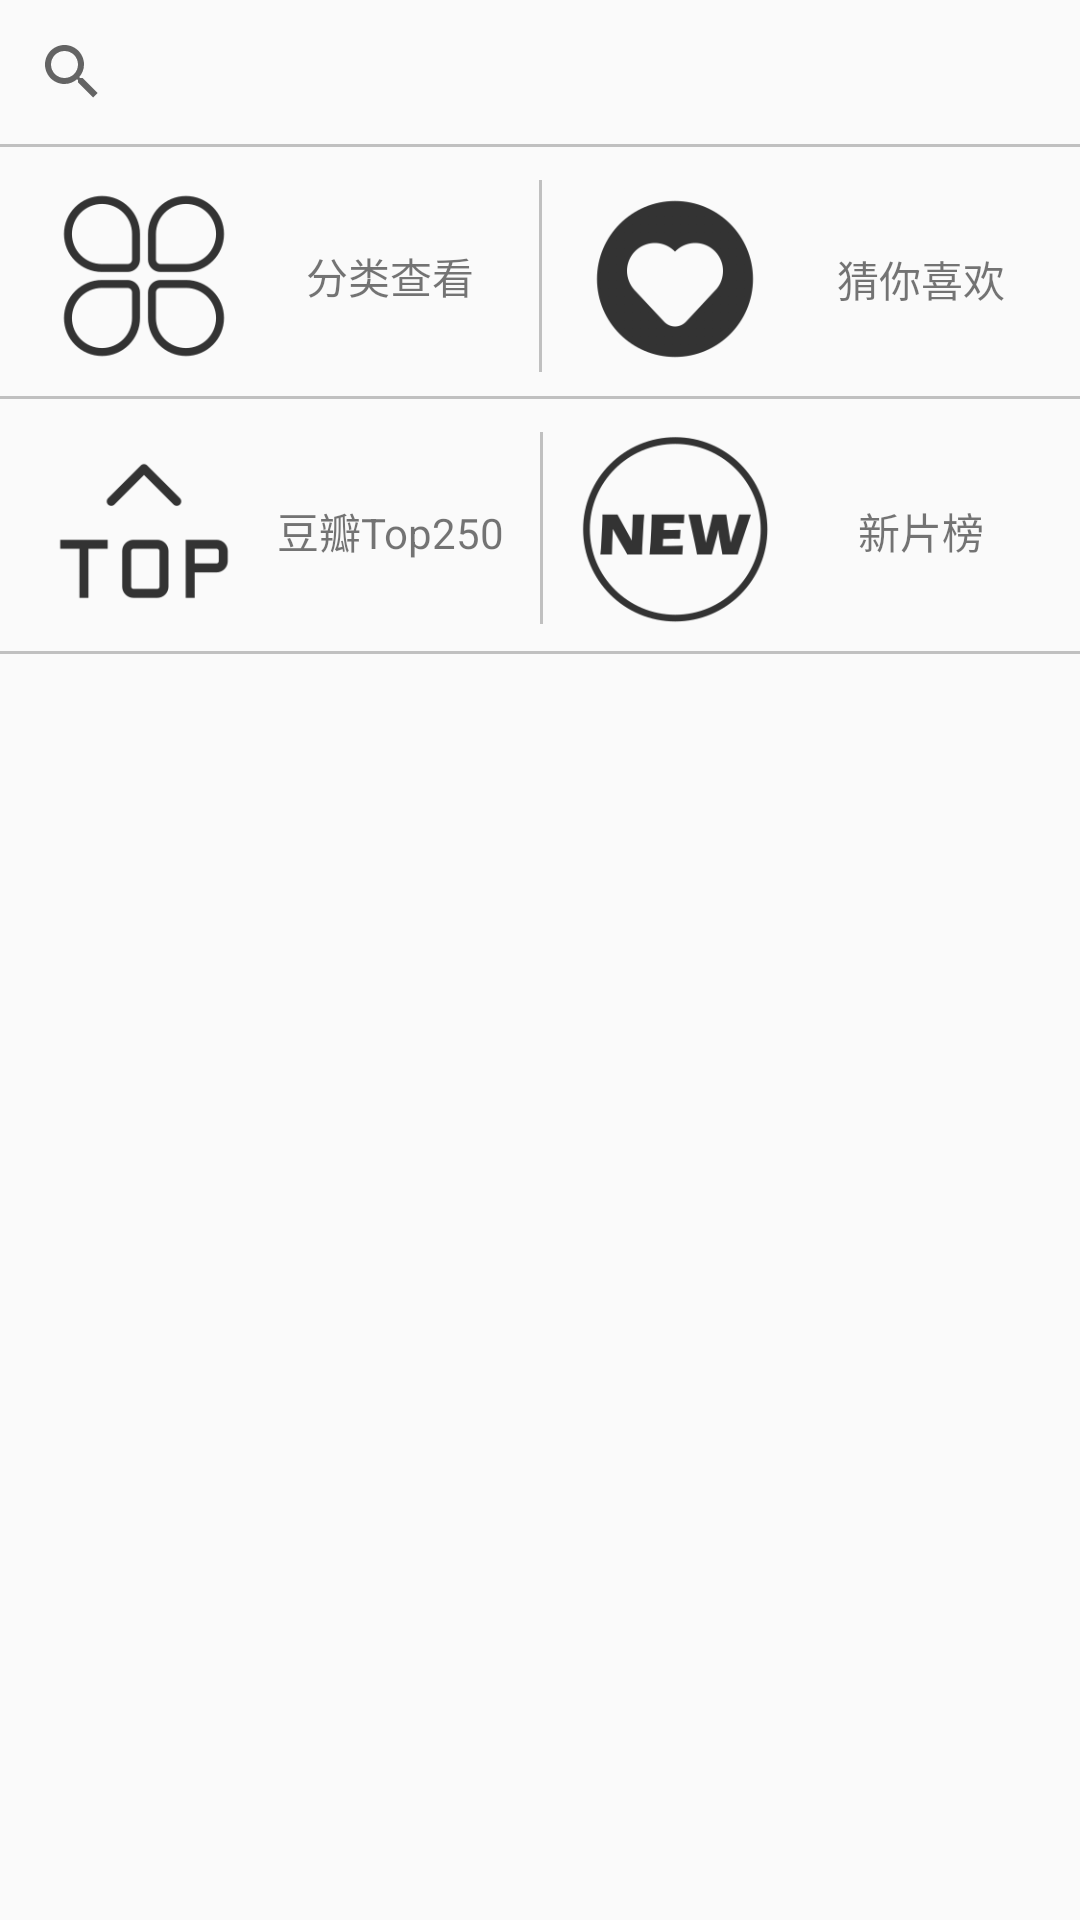

Icon click points for this 1080w x 1920h phone screenshot, format point (x, y):
cainixihuan: point (675, 279)
fenlei: point (144, 276)
